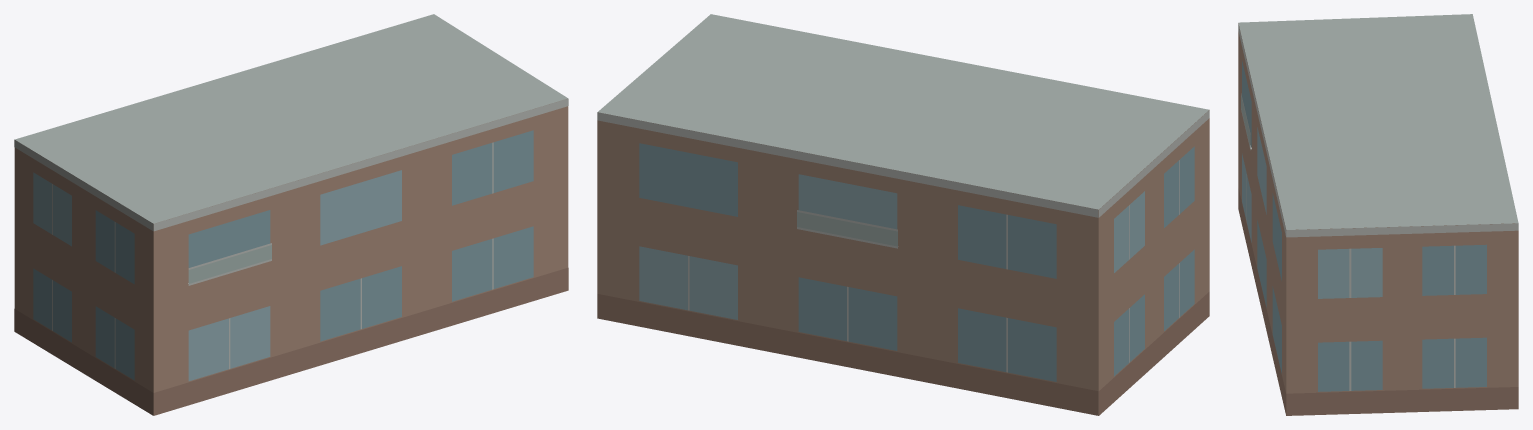
Rendered from survey-upis-32695698.glb.
3 views of the same model, side by side, from view 1: azimuth 30°, elevation 25°; view 2: azimuth 150°, elevation 25°; view 3: azimuth 270°, elevation 25° (orthographic). The views are drawn at different scales.
Visible parts, largest first — view 1: survey-upis-32695698.tmp; view 2: survey-upis-32695698.tmp; view 3: survey-upis-32695698.tmp.
Boxes of the visible parts, <box> form: survey-upis-32695698.tmp: <box>14,14,568,415</box>; survey-upis-32695698.tmp: <box>597,14,1209,415</box>; survey-upis-32695698.tmp: <box>1238,14,1518,415</box>.
Bounding box in the file's own units: 15.22 × 6.1 × 8.35.
